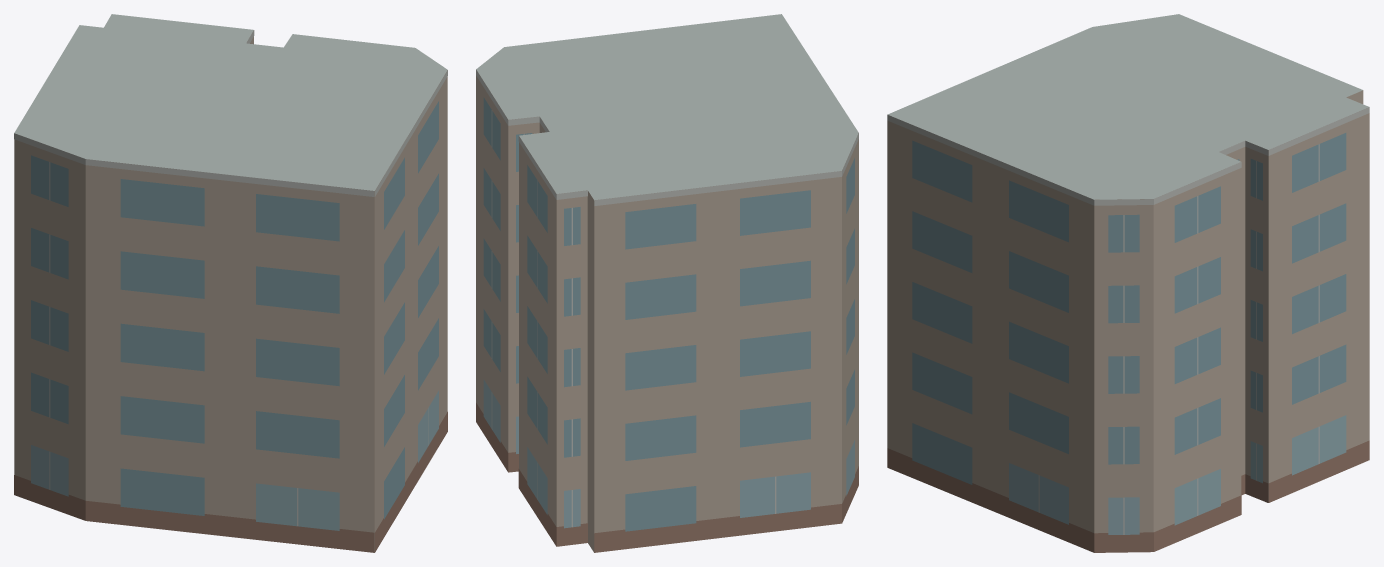
File: survey-upis-32693895.glb
3 views of the same model, side by side, from view 1: azimuth 30°, elevation 25°; view 2: azimuth 150°, elevation 25°; view 3: azimuth 270°, elevation 25° (orthographic). The views are drawn at different scales.
Parts seen in each view (by area): view 1: survey-upis-32693895.tmp; view 2: survey-upis-32693895.tmp; view 3: survey-upis-32693895.tmp.
Boxes of the visible parts, box(x1,y1,x2,y2) form: survey-upis-32693895.tmp: box(14, 14, 447, 552); survey-upis-32693895.tmp: box(476, 14, 858, 552); survey-upis-32693895.tmp: box(887, 14, 1369, 552).
Bounding box in the file's own units: 16.26 × 14.4 × 17.83.
